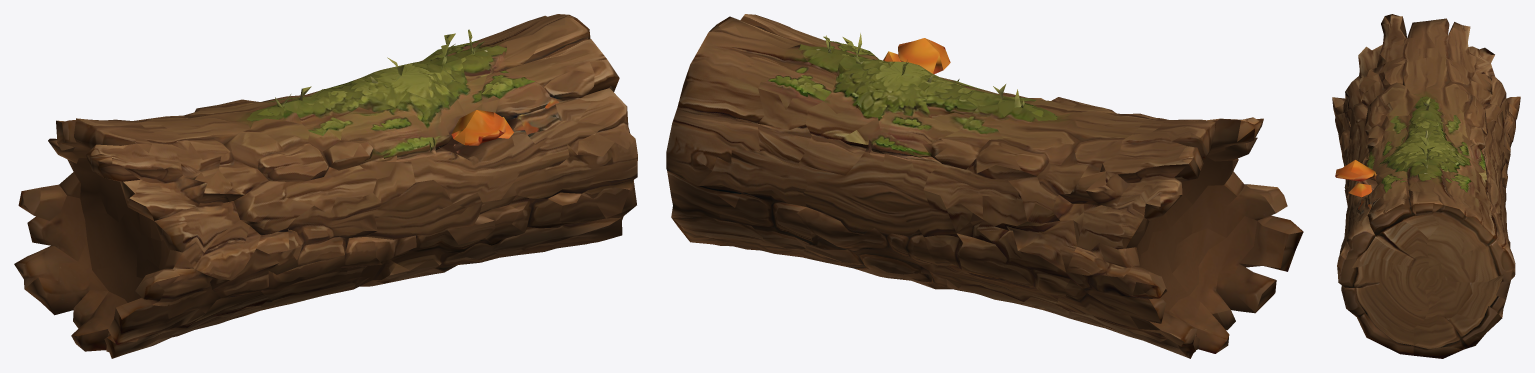
File: tronco_caido.glb
The picture shows the model from 3 angles, left to right: view 1: azimuth 30°, elevation 25°; view 2: azimuth 150°, elevation 25°; view 3: azimuth 270°, elevation 25°; orthographic projection. The views are drawn at different scales.
Visible parts, largest first — view 1: geometry_0; view 2: geometry_0; view 3: geometry_0.
Boxes of the visible parts, x1,y1,x2,y2 form: geometry_0: [14, 14, 637, 358]; geometry_0: [666, 14, 1303, 358]; geometry_0: [1332, 14, 1520, 358].
Bounding box in the file's own units: 0.9763 × 0.4083 × 0.4171.
1 material, 1 textured.
